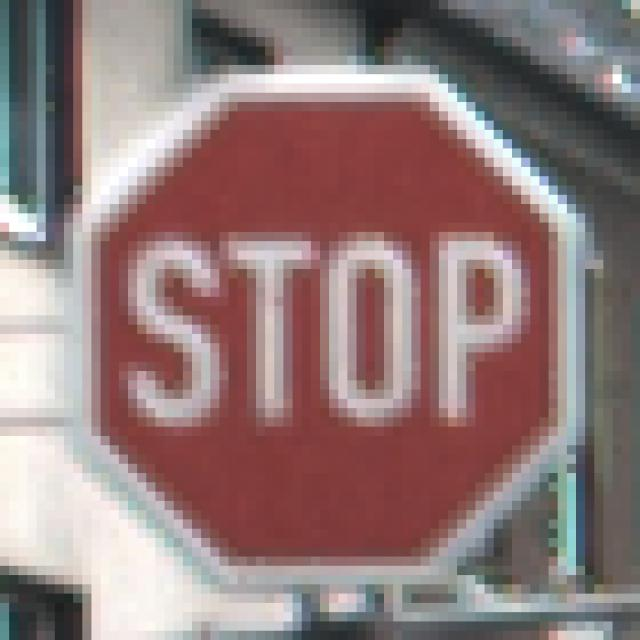STOP: (65, 66, 586, 585)
